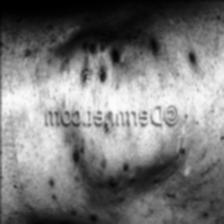Potentially Malignant Skin Tumors: (72, 36, 124, 86), (55, 137, 89, 183), (100, 157, 138, 197), (140, 28, 162, 64), (68, 206, 102, 224), (181, 42, 201, 72)
